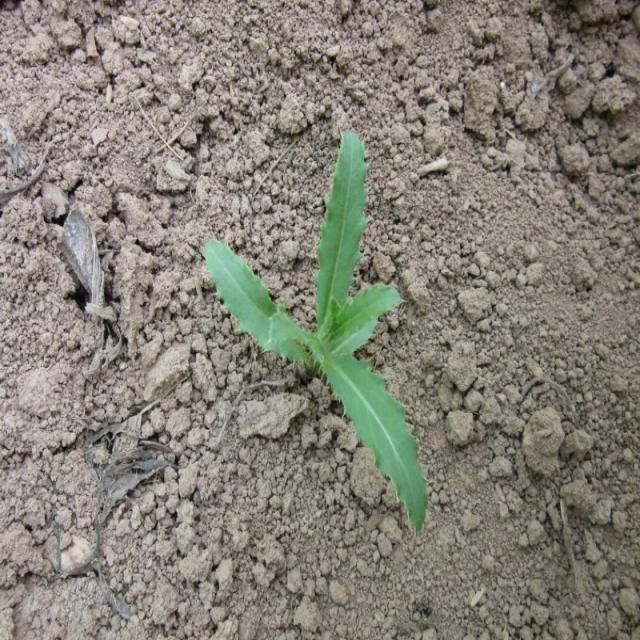field_thistle: (193, 134, 446, 552)
